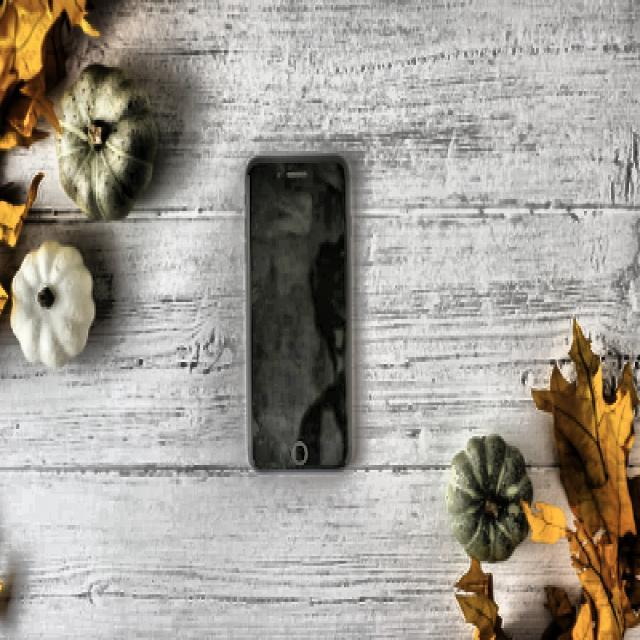Phone: (244, 153, 354, 474)
